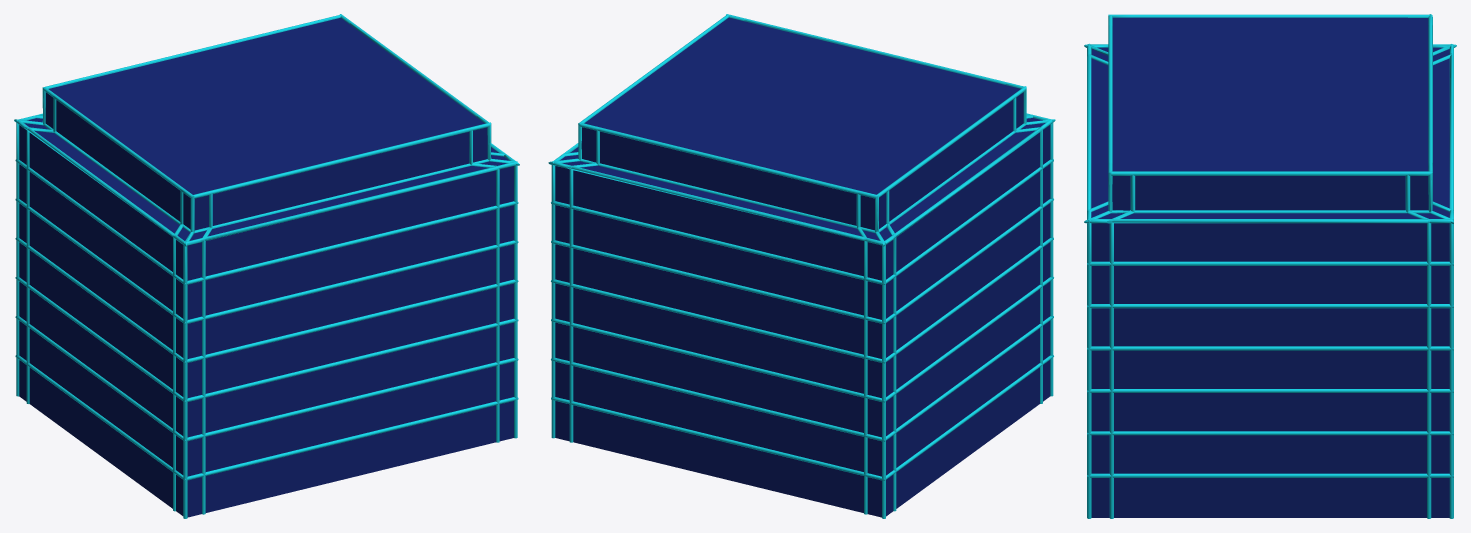
Rendered from Retangulo04_Mapa01.FBX.
3 renders of one model, left to right at view 1: azimuth 30°, elevation 25°; view 2: azimuth 150°, elevation 25°; view 3: azimuth 270°, elevation 25°, orthographic. The views are drawn at different scales.
Parts seen in each view (by area): view 1: Box005, Shape005; view 2: Box005, Shape005; view 3: Box005, Shape005.
Part boxes in pixels (x1,y1,x2,y2): Box005: (19,18,513,517); Shape005: (14,14,519,518); Box005: (555,17,1050,517); Shape005: (548,14,1055,518); Box005: (1091,17,1449,517); Shape005: (1084,14,1456,518).
Bounding box in the file's own units: 191 × 169 × 169.
